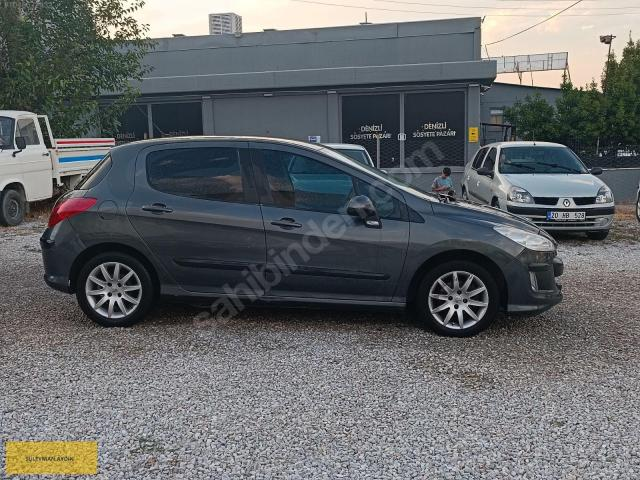plaka: (546, 212, 586, 220)
